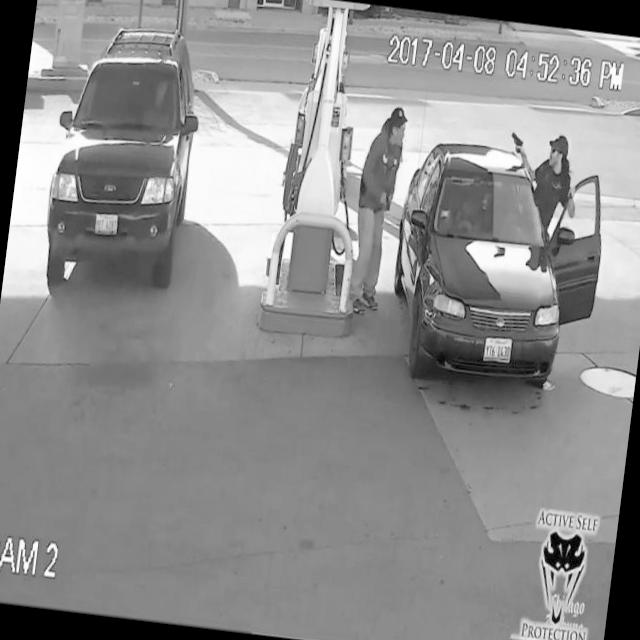gun: (506, 126, 529, 160), (377, 187, 392, 213)
person with a gun: (342, 104, 408, 317), (502, 130, 585, 220)
